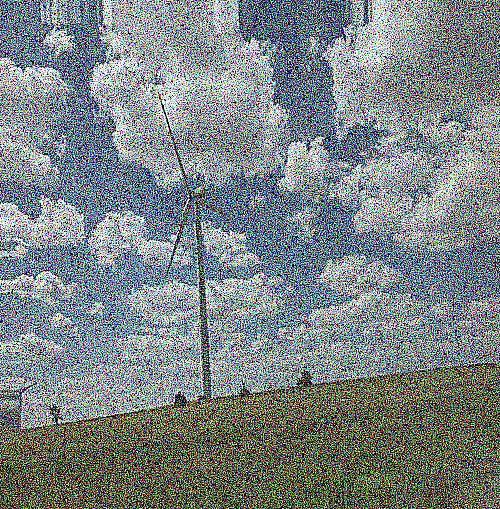wind turbine: (157, 90, 232, 402)
